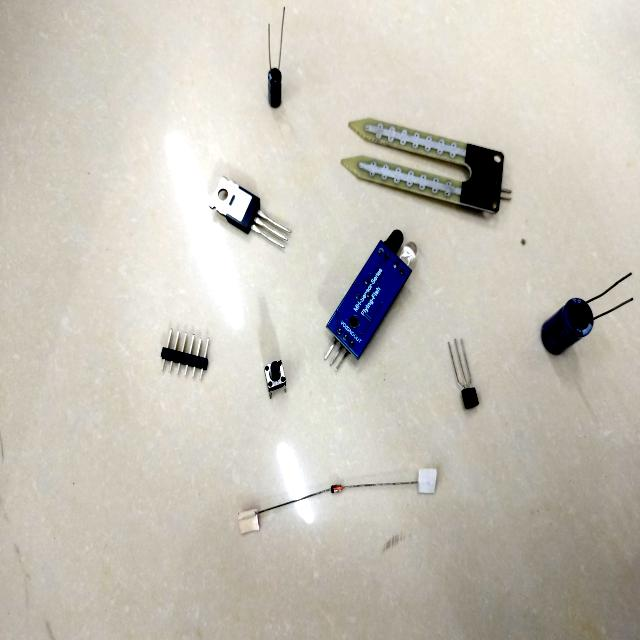BJT-Transistor: (435, 323, 489, 424)
Capacitor-10mf: (256, 0, 297, 123)
Capacitor-470mf: (533, 245, 640, 371)
IR-Sensor: (316, 224, 422, 375)
MOSFET: (201, 163, 296, 260)
Pin-Header: (146, 319, 224, 401)
Soil-Moisture-Sensor: (324, 96, 527, 232)
Tact-Switch: (254, 342, 297, 410)
Zener-Diode: (303, 446, 389, 515)
